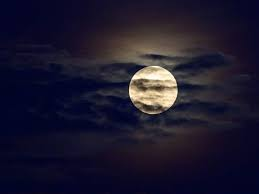moon: (124, 62, 187, 120)
